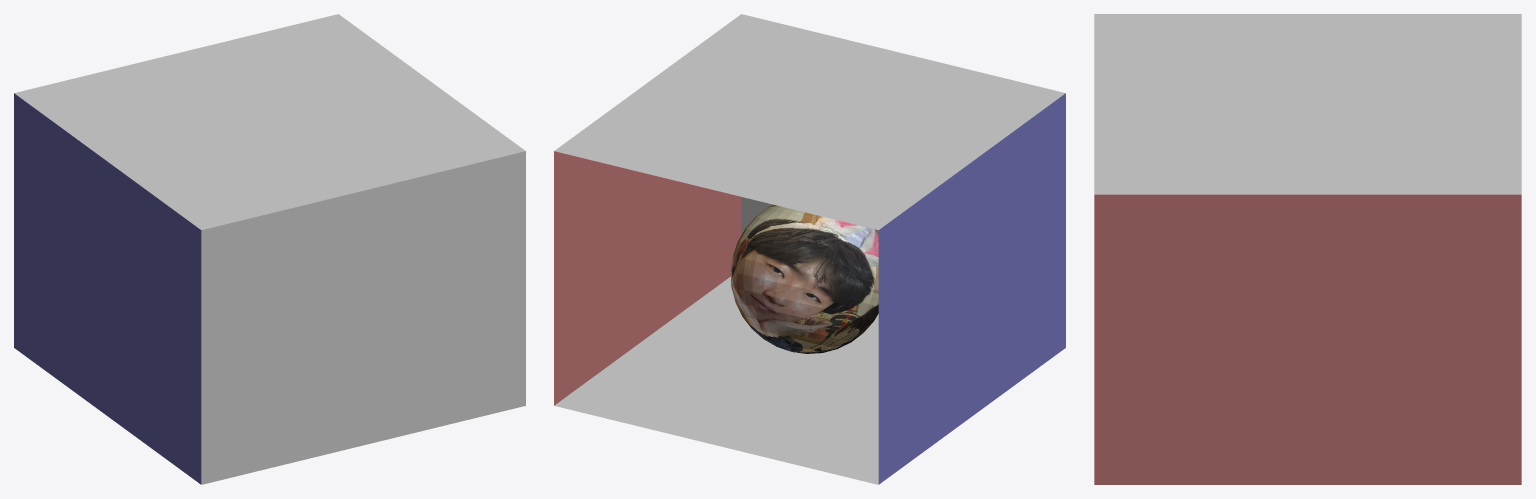
Rendered from cb_texture.glb.
3 views of the same model, side by side, from view 1: azimuth 30°, elevation 25°; view 2: azimuth 150°, elevation 25°; view 3: azimuth 270°, elevation 25° (orthographic). The views are drawn at different scales.
Visible parts, largest first — view 1: backWall, ceiling, rightWall; view 2: ceiling, rightWall, floor, leftWall, Sphere, backWall; view 3: leftWall, ceiling.
Boxes of the visible parts, x1=… form: backWall: x1=201, y1=151, x2=525, y2=484; ceiling: x1=14, y1=14, x2=525, y2=230; rightWall: x1=14, y1=93, x2=201, y2=484; ceiling: x1=554, y1=14, x2=1065, y2=230; rightWall: x1=878, y1=93, x2=1065, y2=484; floor: x1=554, y1=276, x2=878, y2=484; leftWall: x1=554, y1=151, x2=741, y2=405; Sphere: x1=730, y1=204, x2=878, y2=353; backWall: x1=741, y1=197, x2=878, y2=235; leftWall: x1=1094, y1=194, x2=1521, y2=484; ceiling: x1=1094, y1=14, x2=1521, y2=194.
Bounding box in the file's own units: 2 × 1.5 × 2.
Materials: 7 (1 with a texture image).
